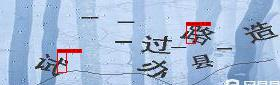chinese: (35, 48, 71, 81), (180, 19, 216, 44), (243, 20, 280, 43), (140, 56, 175, 80), (140, 30, 172, 56), (188, 53, 216, 71)
